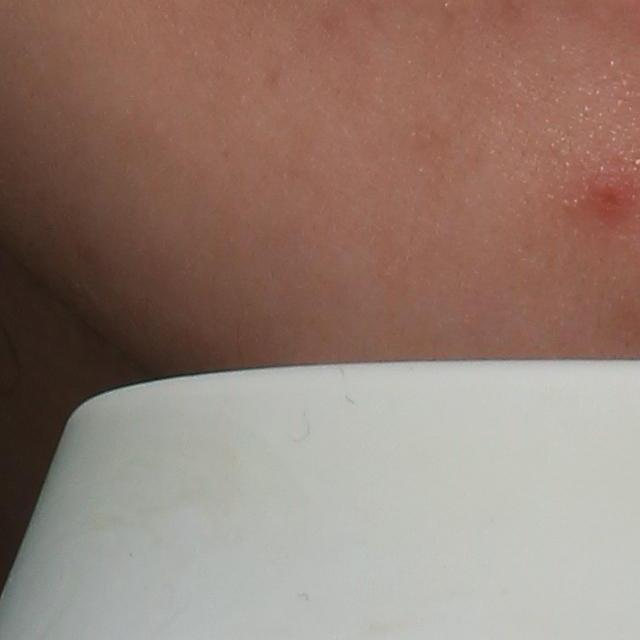papule: (584, 163, 632, 221)
